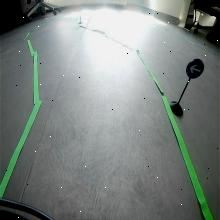left: (186, 58, 204, 80)
